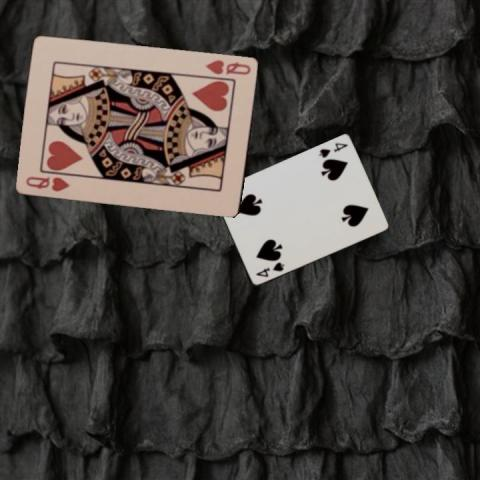4s: (253, 259, 286, 279), (315, 140, 349, 159)
Qh: (23, 172, 72, 192), (202, 57, 252, 76)
